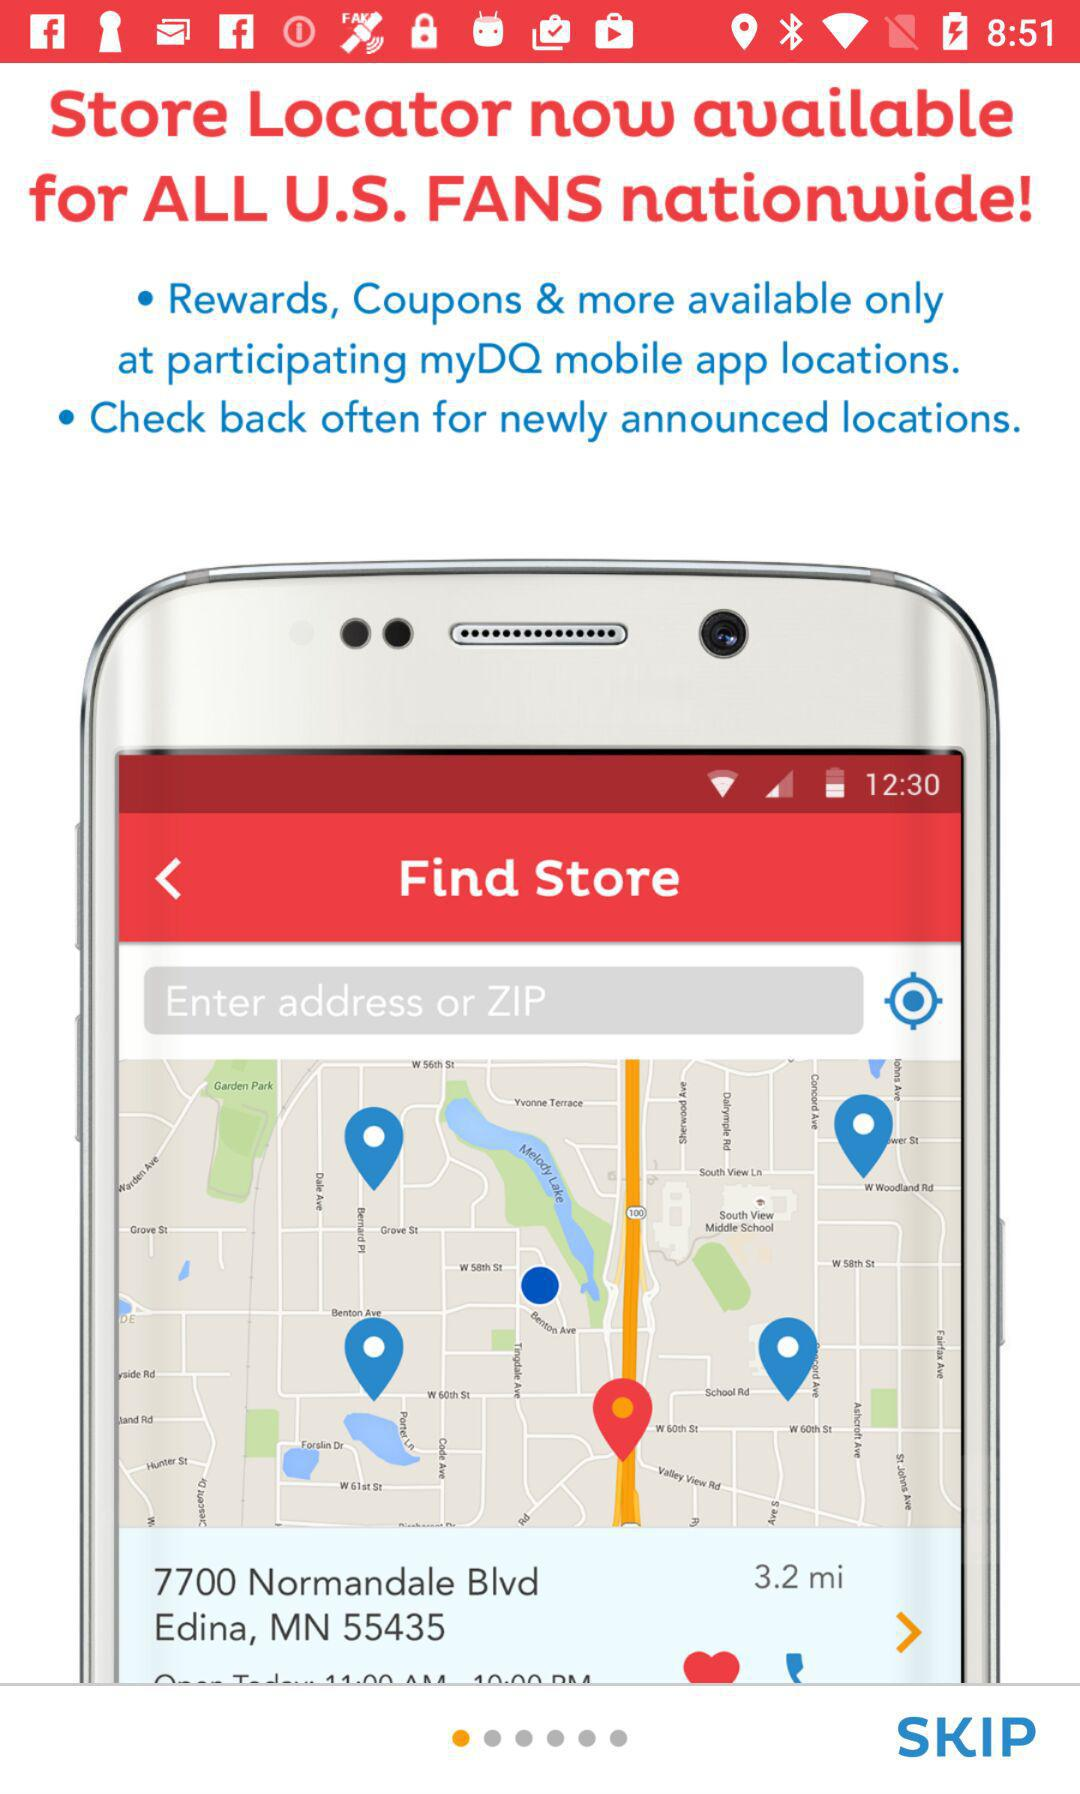Image: (76, 557, 1002, 1686)
PageIndicator: (451, 1727, 629, 1749)
Text: (56, 279, 1026, 445), (29, 86, 1034, 226), (897, 1716, 1036, 1759)
UpperTaskBar: (1, 1, 1080, 64)
